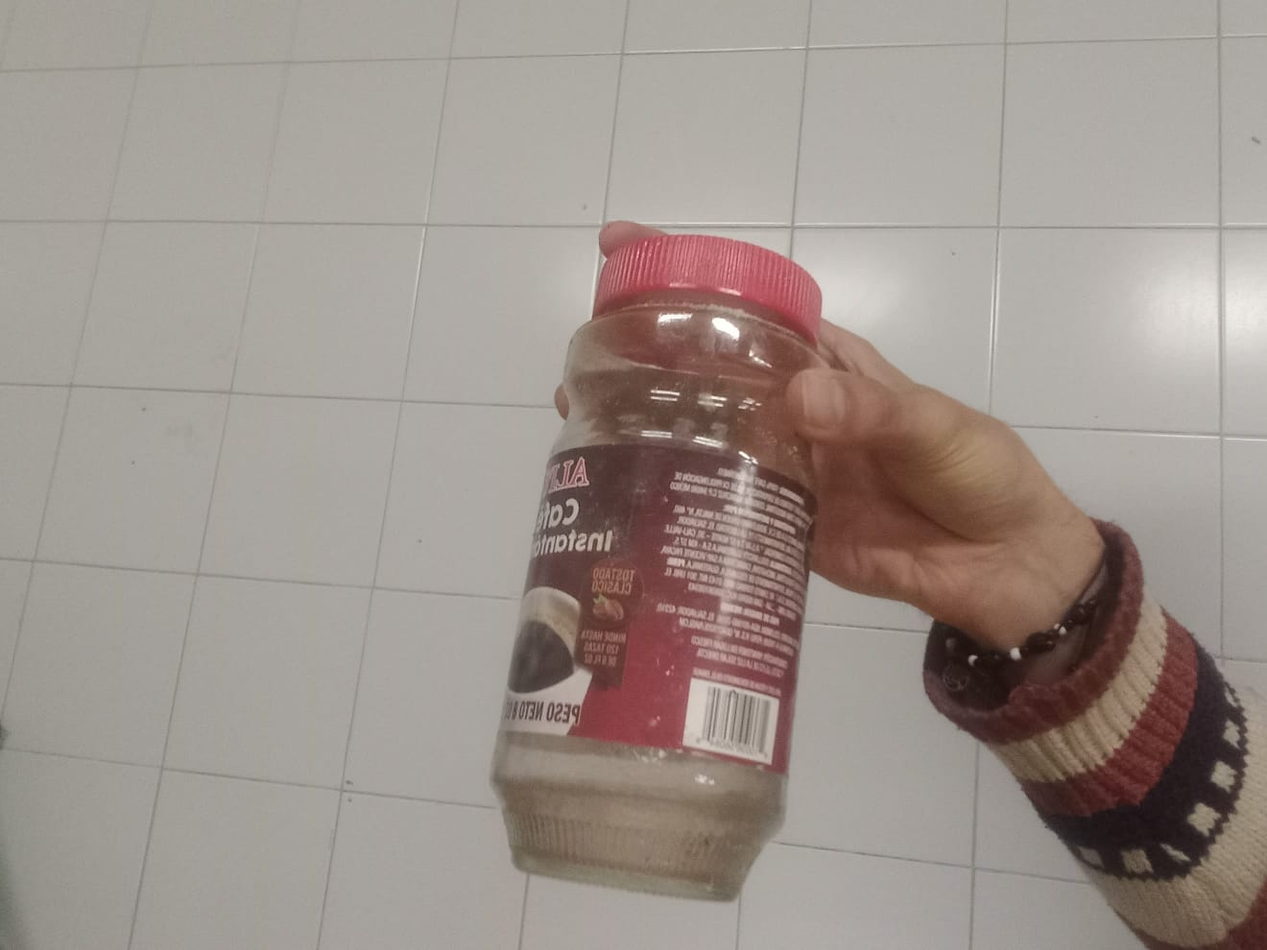Plastico: (602, 237, 823, 297)
Vidrio: (488, 297, 839, 908)
